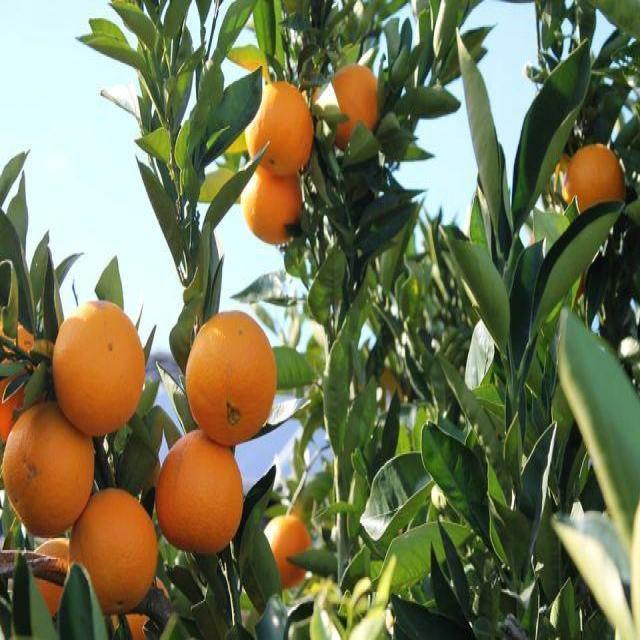Jeruk Sudah Matang: (1, 396, 96, 540), (53, 297, 146, 438), (184, 307, 278, 444), (69, 485, 160, 617), (153, 428, 245, 552), (245, 78, 318, 178), (564, 141, 628, 226), (241, 164, 304, 248), (326, 63, 382, 150), (253, 512, 309, 592), (19, 539, 72, 618), (109, 578, 175, 639)
